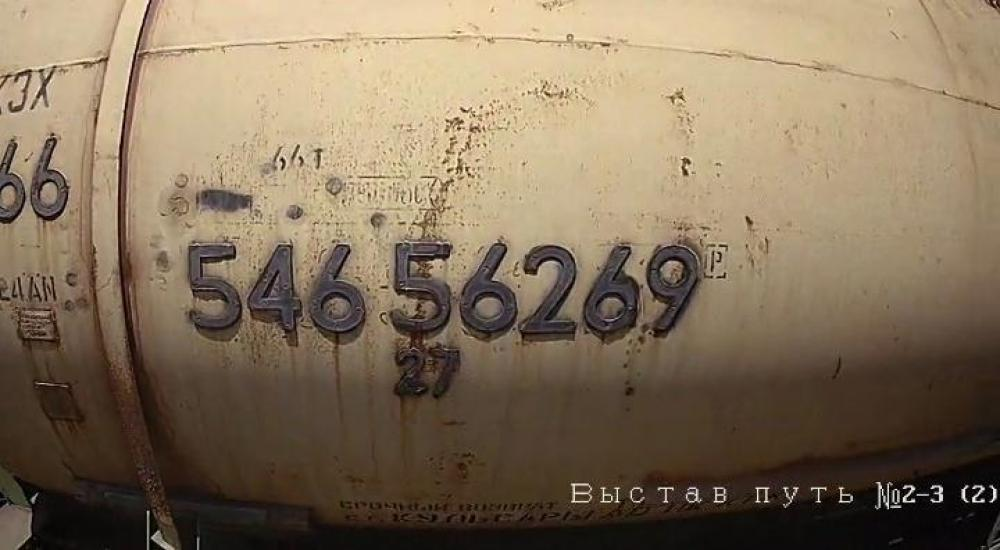Wagon-number: (178, 235, 708, 345)
